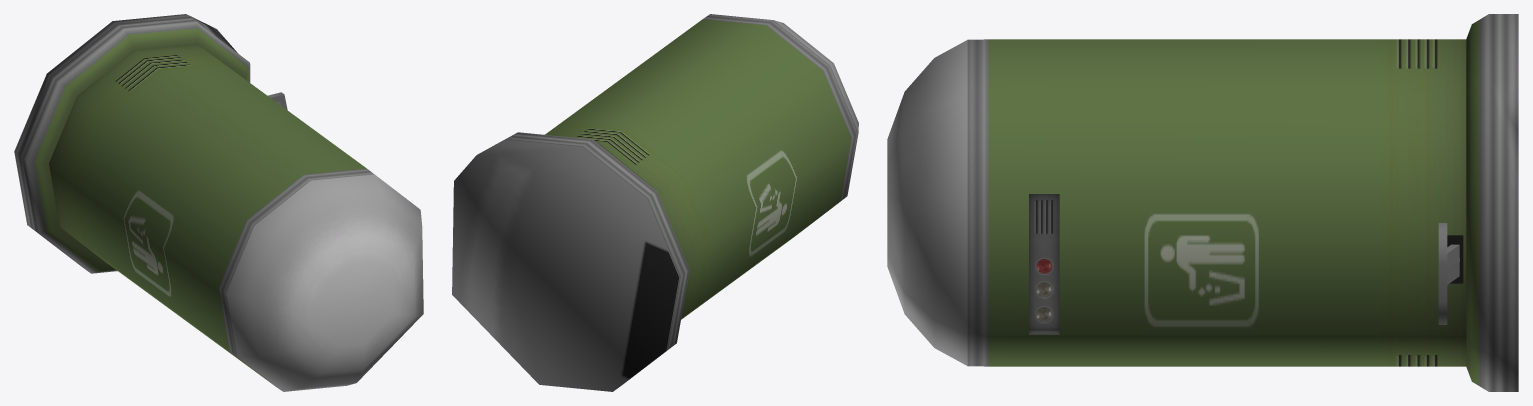
File: nt_trash_compactor_green_LOD1.obj
3 renders of one model, left to right at view 1: azimuth 30°, elevation 25°; view 2: azimuth 150°, elevation 25°; view 3: azimuth 270°, elevation 25°, orthographic. The views are drawn at different scales.
Visible parts, largest first — view 1: mtl_nt_trash_compactor; view 2: mtl_nt_trash_compactor; view 3: mtl_nt_trash_compactor.
Part boxes in pixels (x1=…): mtl_nt_trash_compactor: x1=14, y1=14, x2=423, y2=391; mtl_nt_trash_compactor: x1=452, y1=14, x2=858, y2=391; mtl_nt_trash_compactor: x1=887, y1=14, x2=1518, y2=391.
Size of the model in its own units: 60.02 by 57.85 by 94.8.
